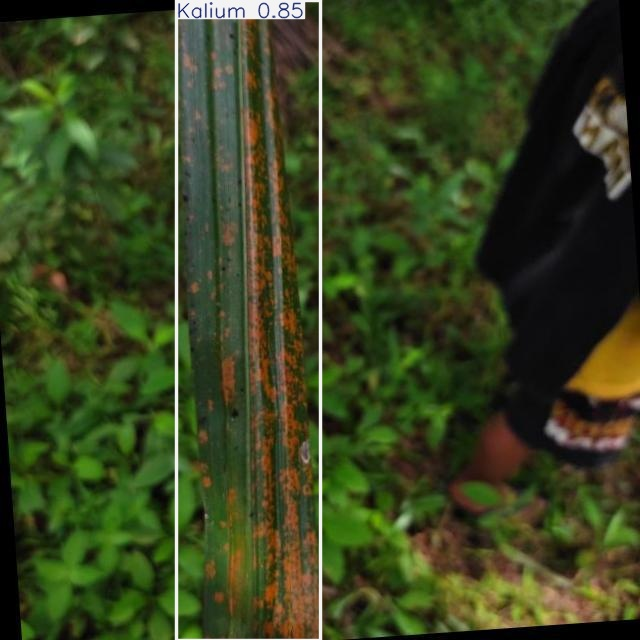Kalium: (177, 0, 320, 640)
